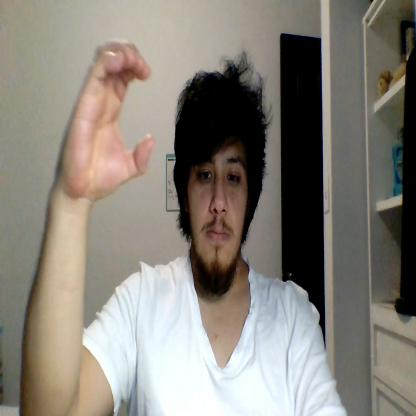C: (59, 41, 153, 200)
